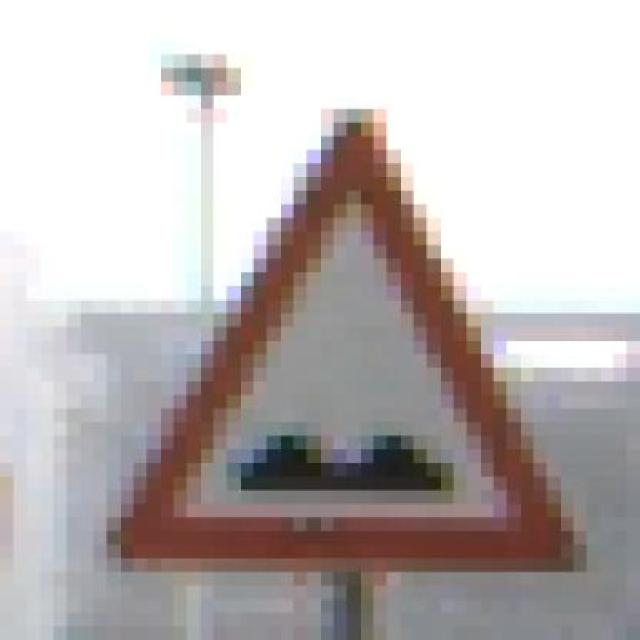Uneven Road: (106, 96, 600, 586)
